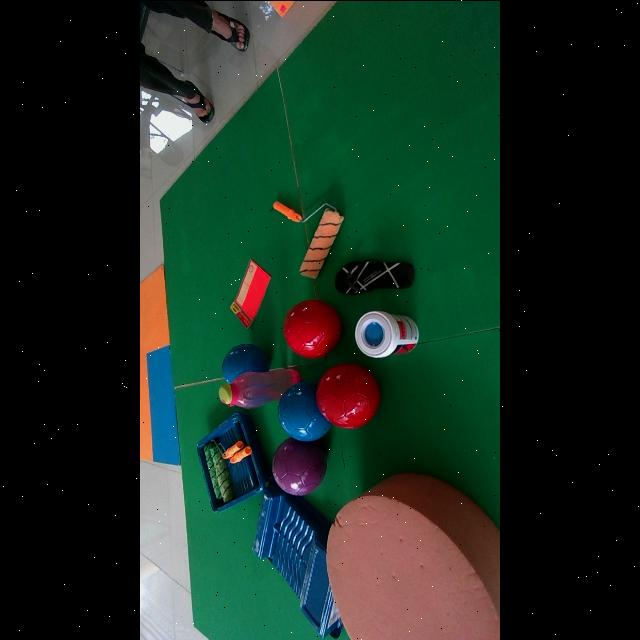B: (278, 381, 331, 441), (223, 344, 269, 381)
P: (272, 437, 326, 495)
R: (316, 362, 380, 428), (283, 299, 342, 357)
